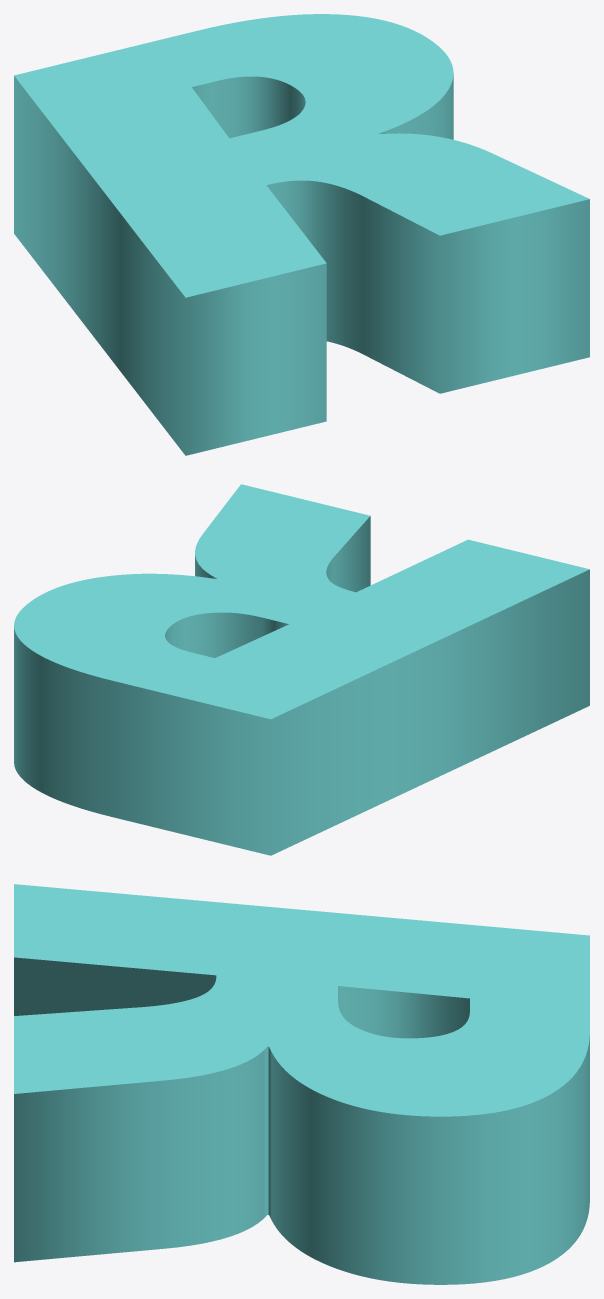
3 renders of one model, top to bottom at view 1: azimuth 30°, elevation 25°; view 2: azimuth 150°, elevation 25°; view 3: azimuth 270°, elevation 25°, orthographic. The views are drawn at different scales.
Parts seen in each view (by area): view 1: R; view 2: R; view 3: R.
Part boxes in pixels (x1,y1,x2,y2): R: (14, 14, 589, 455); R: (14, 484, 589, 855); R: (14, 884, 589, 1284).
Bounding box in the file's own units: 47.42 × 16 × 49.64.
